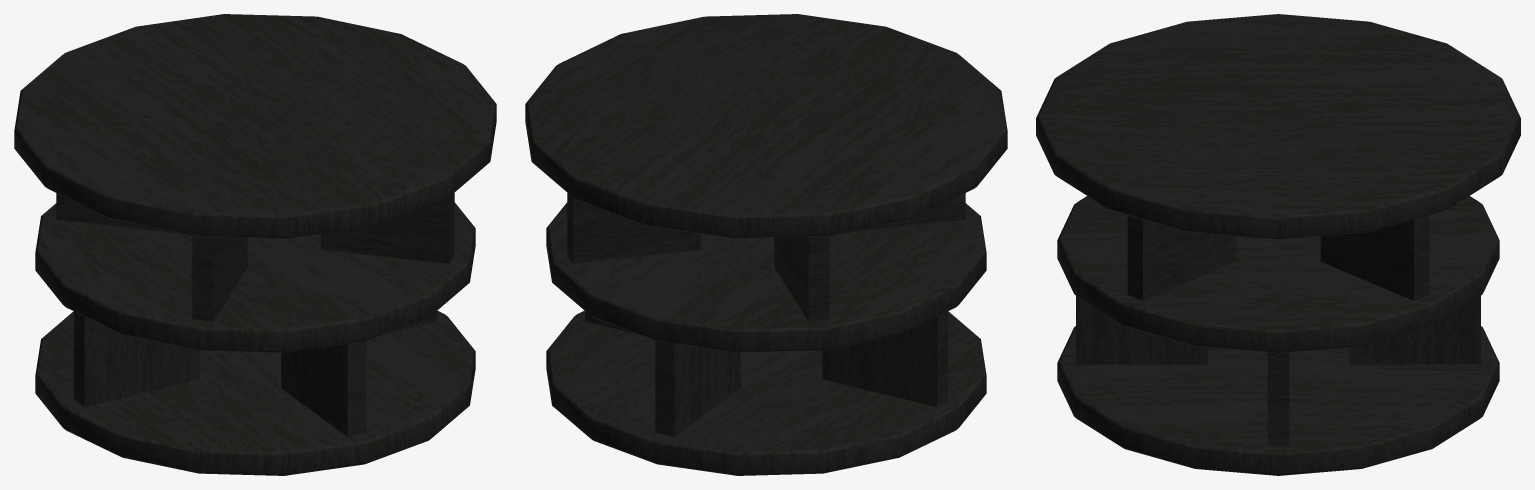
Rendered from coffee_table_014.fbx.
The picture shows the model from 3 angles, left to right: view 1: azimuth 30°, elevation 25°; view 2: azimuth 150°, elevation 25°; view 3: azimuth 270°, elevation 25°; orthographic projection.
Parts seen in each view (by area): view 1: coffee_table_014; view 2: coffee_table_014; view 3: coffee_table_014.
Boxes of the visible parts, left/top/right/bottom form: coffee_table_014: left=14, top=14, right=496, bottom=475; coffee_table_014: left=525, top=14, right=1007, bottom=475; coffee_table_014: left=1036, top=14, right=1520, bottom=475.
Size of the model in its own units: 108 by 108 by 66.04.
